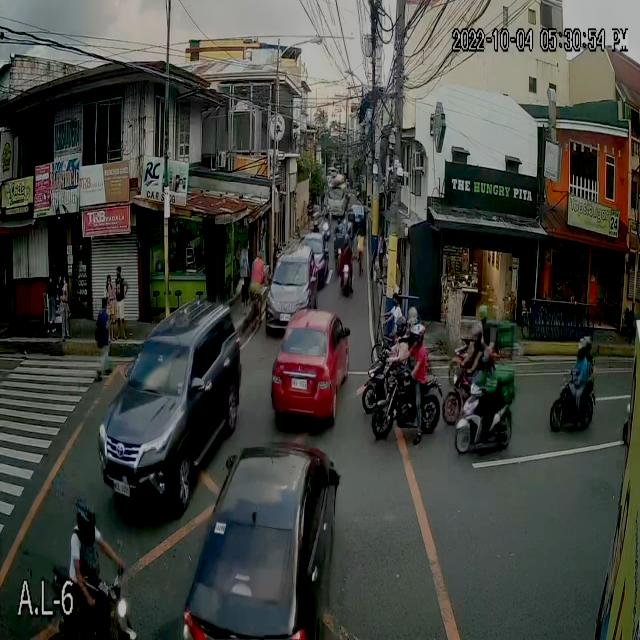Full-Faced: (75, 510, 95, 542), (406, 306, 420, 326), (466, 330, 480, 348), (479, 348, 492, 366), (415, 325, 425, 343), (478, 310, 489, 326), (408, 318, 418, 332), (395, 318, 406, 330), (577, 339, 587, 352)
Half-Faced: (338, 212, 352, 238)
Not-Wearing-Helmet: (355, 227, 364, 248)
